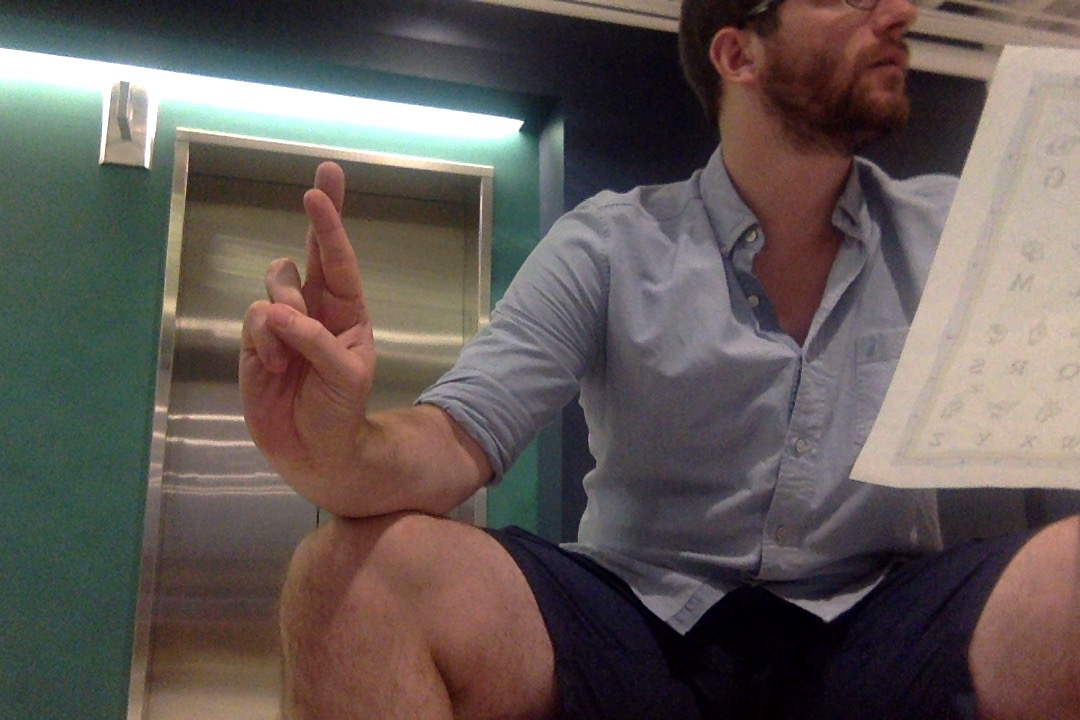r: (235, 157, 381, 466)
